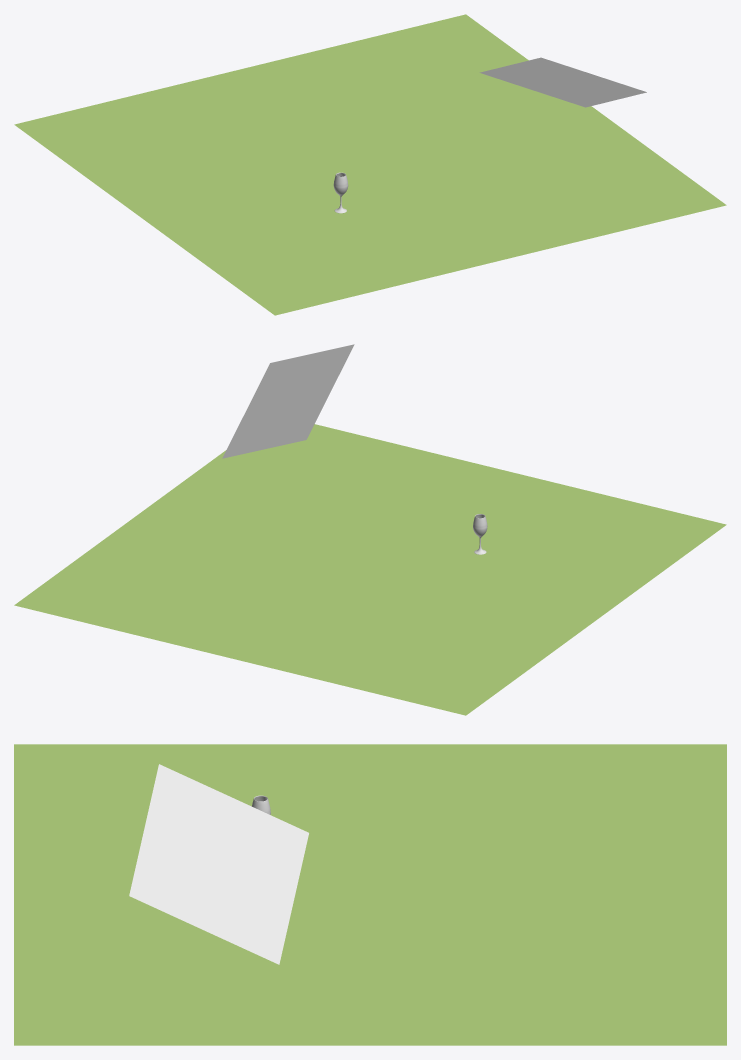
File: goblet.fbx
3 views of the same model, one above another, from view 1: azimuth 30°, elevation 25°; view 2: azimuth 150°, elevation 25°; view 3: azimuth 270°, elevation 25° (orthographic). The views are drawn at different scales.
Visible parts, largest first — view 1: floor, light plane; view 2: floor, light plane; view 3: floor, light plane.
Part boxes in pixels (x1,y1,x2,y2): floor: (14,14,726,315); light plane: (479,57,646,107); floor: (14,424,726,715); light plane: (222,344,354,458); floor: (14,744,726,1045); light plane: (129,764,308,964).
Bounding box in the file's own units: 1629 × 487 × 1629.
